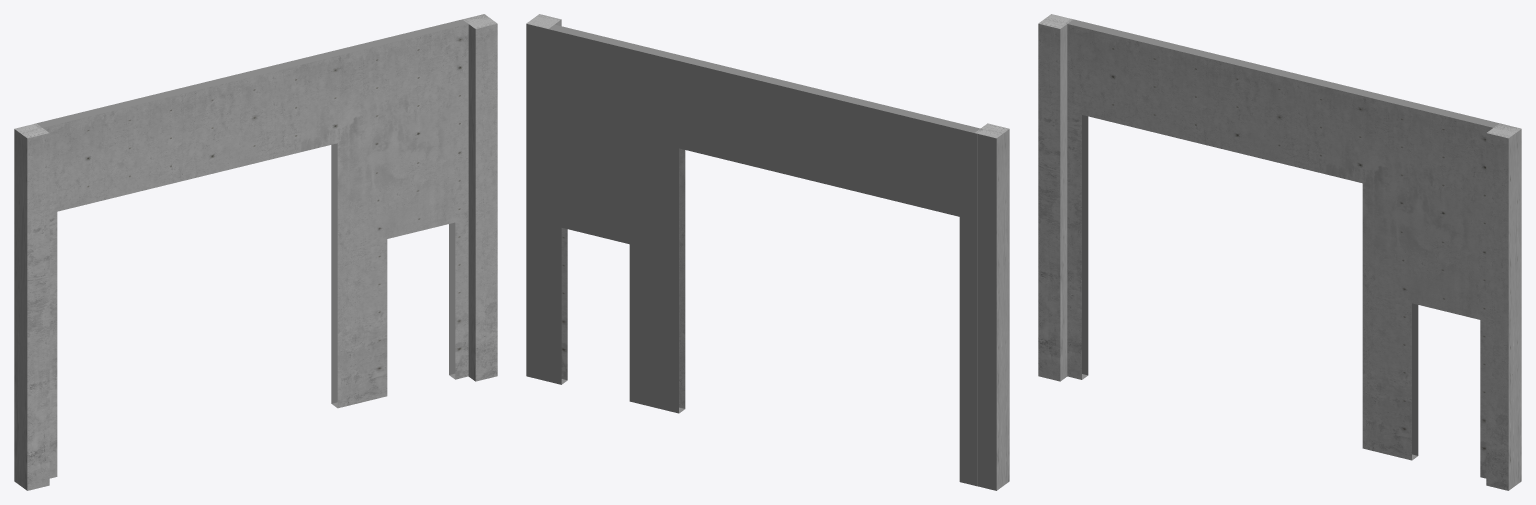
File: Wall 4.FBX
The picture shows the model from 3 angles, left to right: view 1: azimuth 30°, elevation 25°; view 2: azimuth 150°, elevation 25°; view 3: azimuth 330°, elevation 25°; orthographic projection.
Visible parts, largest first — view 1: Wall 4; view 2: Wall 4; view 3: Wall 4.
Boxes of the visible parts, x1,y1,x2,y2 form: Wall 4: (14, 14, 497, 490); Wall 4: (526, 14, 1009, 490); Wall 4: (1038, 14, 1521, 490).
Size of the model in its own units: 738 by 529 by 36.16.
Materials: 2 (1 with a texture image).
